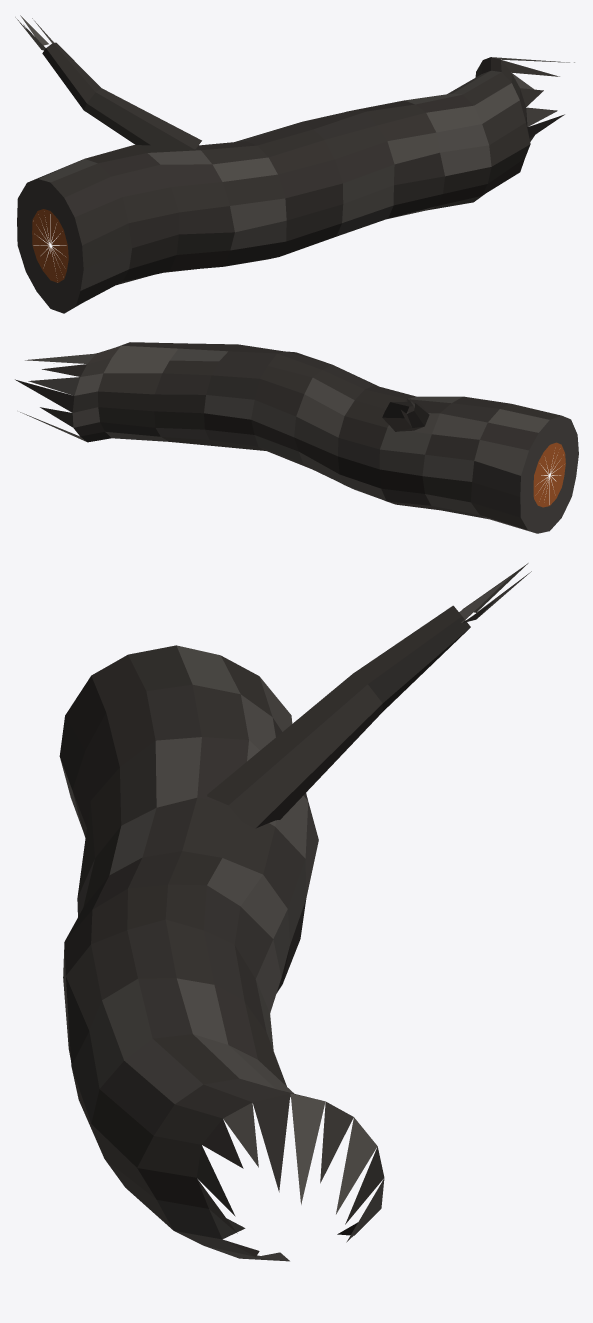
Rendered from charred-log-b.glb.
3 renders of one model, top to bottom at view 1: azimuth 30°, elevation 25°; view 2: azimuth 150°, elevation 25°; view 3: azimuth 270°, elevation 25°, orthographic. The views are drawn at different scales.
Visible parts, largest first — view 1: prop_charred-log-b_LOD0; view 2: prop_charred-log-b_LOD0; view 3: prop_charred-log-b_LOD0.
Part boxes in pixels (box(x1,y1,x2,y2)): prop_charred-log-b_LOD0: box(15, 15, 574, 313); prop_charred-log-b_LOD0: box(15, 342, 578, 533); prop_charred-log-b_LOD0: box(59, 563, 531, 1261).
Bounding box in the file's own units: 3.7 × 1.28 × 1.52.
